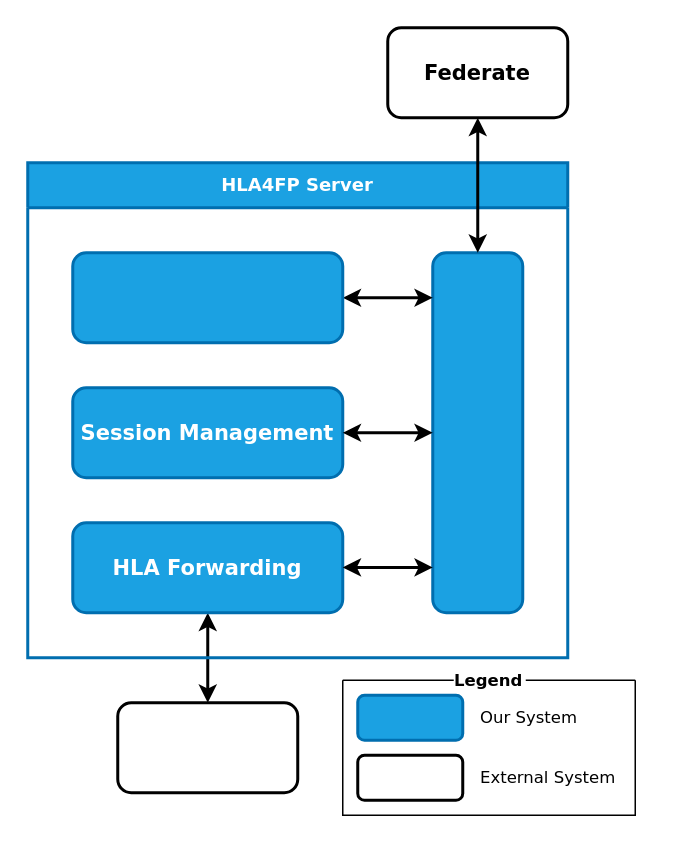
The diagram is 683 pixels wide and 842 high, and some of its shapes have lost their labels. The shapes that lost their labels are listed below. From the top down, each one's centre as x and y in pixels, then its label:
At (x=207, y=297): "Federate Protocol (de)serialization".
At (x=477, y=432): "Netty Pipeline".
At (x=207, y=747): "RTI".
